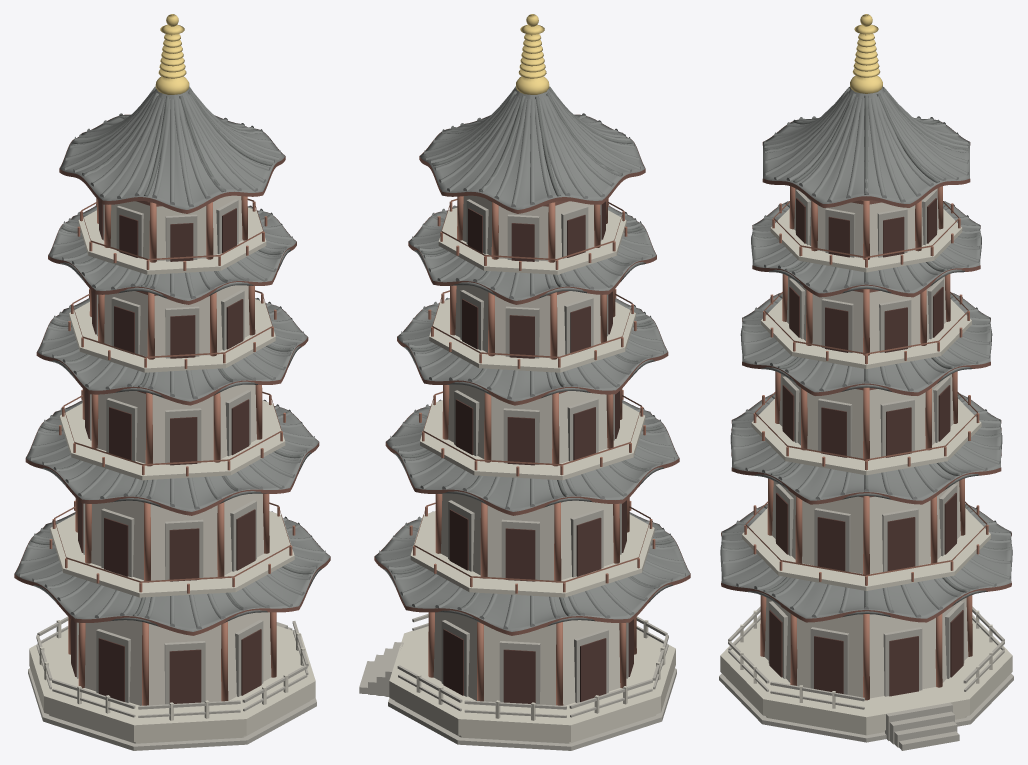
The model's file is leifeng_pagoda.glb.
The picture shows the model from 3 angles, left to right: view 1: azimuth 30°, elevation 25°; view 2: azimuth 150°, elevation 25°; view 3: azimuth 270°, elevation 25°; orthographic projection.
Parts seen in each view (by area): view 1: pag_roof_0, pag_terrace_mid, pag_body_0, pag_doorleaf_0_0, pag_terrace_lo, pag_col_0_0, pag_fang_0, pag_hip_0_0, pag_spire_bowl, pag_tiles_0_wadang_0; view 2: pag_roof_0, pag_terrace_mid, pag_body_0, pag_doorleaf_0_0, pag_terrace_lo, pag_col_0_0, pag_fang_0, pag_hip_0_0, pag_spire_bowl, pag_tiles_0_wadang_0; view 3: pag_roof_0, pag_terrace_mid, pag_body_0, pag_terrace_lo, pag_doorleaf_0_0, pag_col_0_0, pag_fang_0, pag_hip_0_0, pag_spire_bowl, pag_tiles_0_wadang_0.
Part boxes in pixels (<box>): pag_roof_0: <box>15,88,330,631</box>; pag_terrace_mid: <box>29,207,315,743</box>; pag_body_0: <box>84,195,271,705</box>; pag_doorleaf_0_0: <box>71,201,261,703</box>; pag_terrace_lo: <box>28,199,316,750</box>; pag_col_0_0: <box>49,196,295,705</box>; pag_fang_0: <box>14,114,330,635</box>; pag_hip_0_0: <box>31,86,313,616</box>; pag_spire_bowl: <box>155,14,189,94</box>; pag_tiles_0_wadang_0: <box>19,113,325,629</box>; pag_roof_0: <box>375,88,689,631</box>; pag_terrace_mid: <box>389,207,675,743</box>; pag_body_0: <box>433,195,620,705</box>; pag_doorleaf_0_0: <box>443,201,633,703</box>; pag_terrace_lo: <box>359,199,676,750</box>; pag_col_0_0: <box>409,196,655,705</box>; pag_fang_0: <box>374,114,690,635</box>; pag_hip_0_0: <box>391,86,673,616</box>; pag_spire_bowl: <box>516,14,549,94</box>; pag_tiles_0_wadang_0: <box>379,113,685,629</box>; pag_roof_0: <box>720,86,1012,618</box>; pag_terrace_mid: <box>720,209,1012,735</box>; pag_body_0: <box>764,188,968,698</box>; pag_terrace_lo: <box>719,189,1013,750</box>; pag_doorleaf_0_0: <box>769,198,963,696</box>; pag_col_0_0: <box>744,186,988,700</box>; pag_fang_0: <box>721,117,1011,622</box>; pag_hip_0_0: <box>723,87,1009,606</box>; pag_spire_bowl: <box>850,14,882,93</box>; pag_tiles_0_wadang_0: <box>721,116,1011,617</box>.
Size of the model in its own units: 14.95 by 34.87 by 14.
